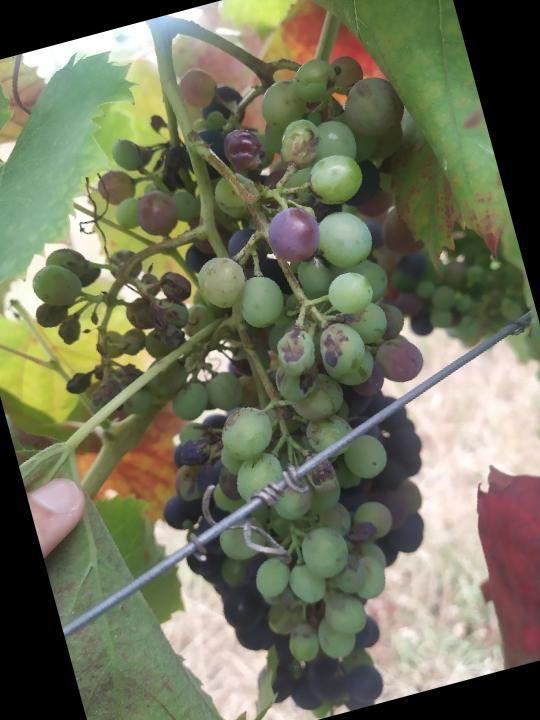grape: (0, 17, 540, 720)
